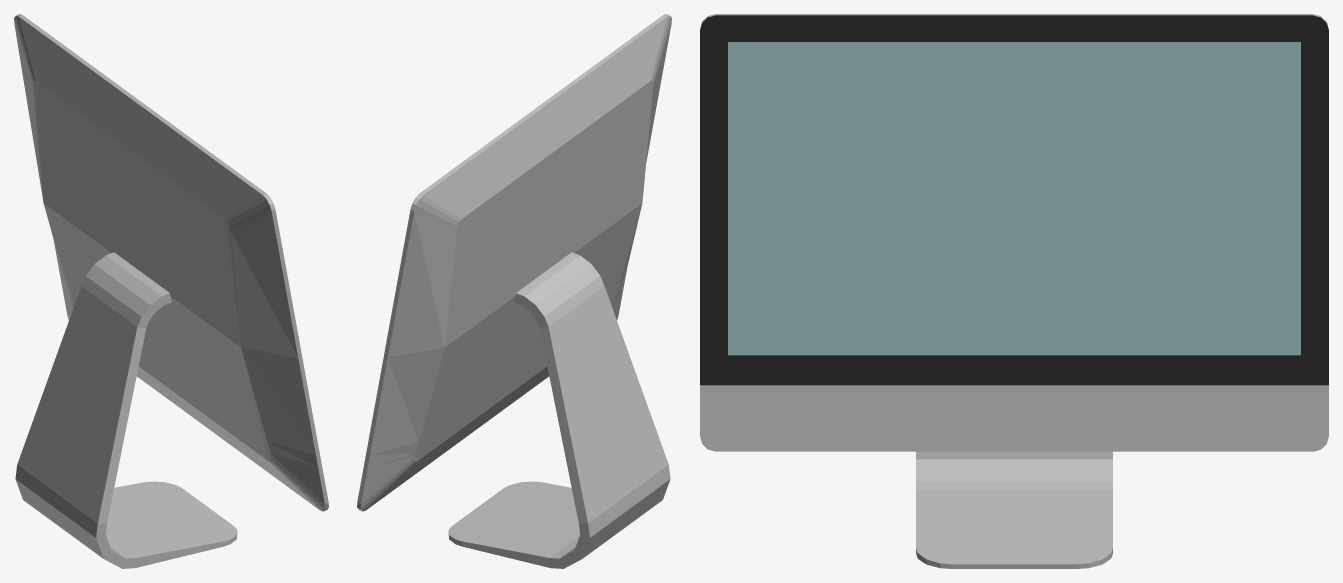
The model's file is monitor.glb.
The picture shows the model from 3 angles, left to right: view 1: azimuth 30°, elevation 25°; view 2: azimuth 150°, elevation 25°; view 3: azimuth 270°, elevation 25°; orthographic projection. The views are drawn at different scales.
Parts seen in each view (by area): view 1: monitor; view 2: monitor; view 3: monitor.
Part boxes in pixels (x1,y1,x2,y2): monitor: (14,14,328,568); monitor: (357,14,671,568); monitor: (700,14,1328,568).
Size of the model in its own units: 0.1587 by 0.42 by 0.4641.
